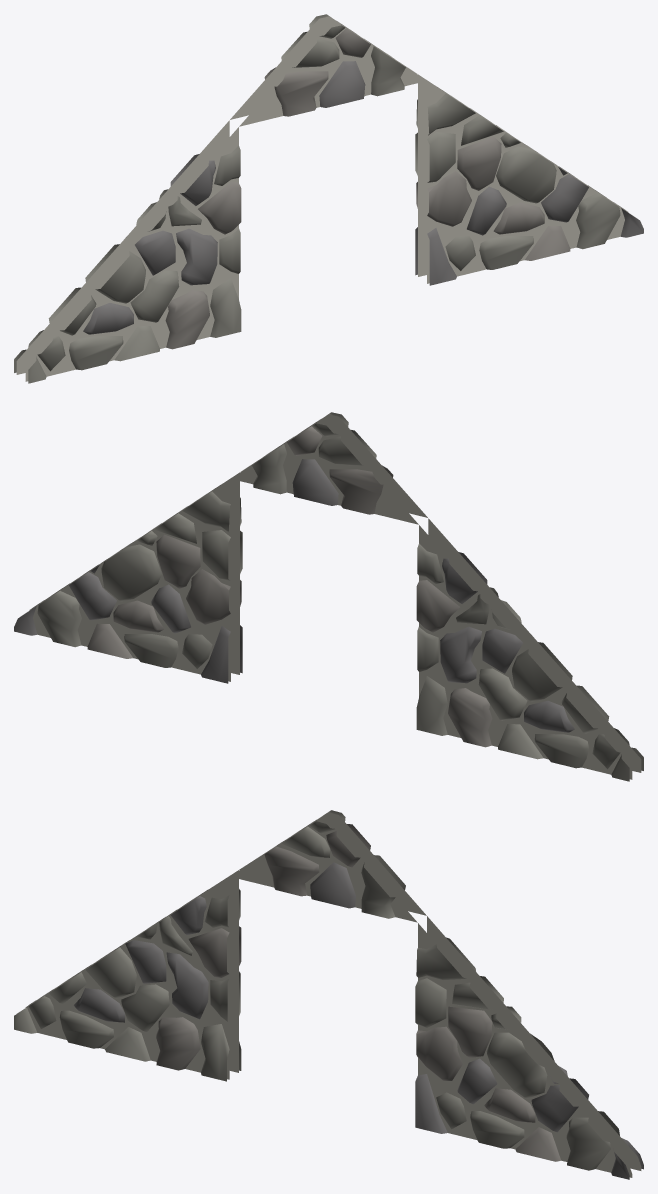
Rendered from rpgpp_ag_roof_end_01_9x4_wall_door_04d.fbx.
3 renders of one model, top to bottom at view 1: azimuth 30°, elevation 25°; view 2: azimuth 150°, elevation 25°; view 3: azimuth 330°, elevation 25°, orthographic.
Parts seen in each view (by area): view 1: rpgpp_ag_roof_end_01_9x4_wall_door_04d; view 2: rpgpp_ag_roof_end_01_9x4_wall_door_04d; view 3: rpgpp_ag_roof_end_01_9x4_wall_door_04d.
Part boxes in pixels (x1,y1,x2,y2): rpgpp_ag_roof_end_01_9x4_wall_door_04d: (14, 14, 643, 383); rpgpp_ag_roof_end_01_9x4_wall_door_04d: (14, 412, 643, 781); rpgpp_ag_roof_end_01_9x4_wall_door_04d: (14, 810, 643, 1179).
Size of the model in its own units: 9 by 3.95 by 0.404.
